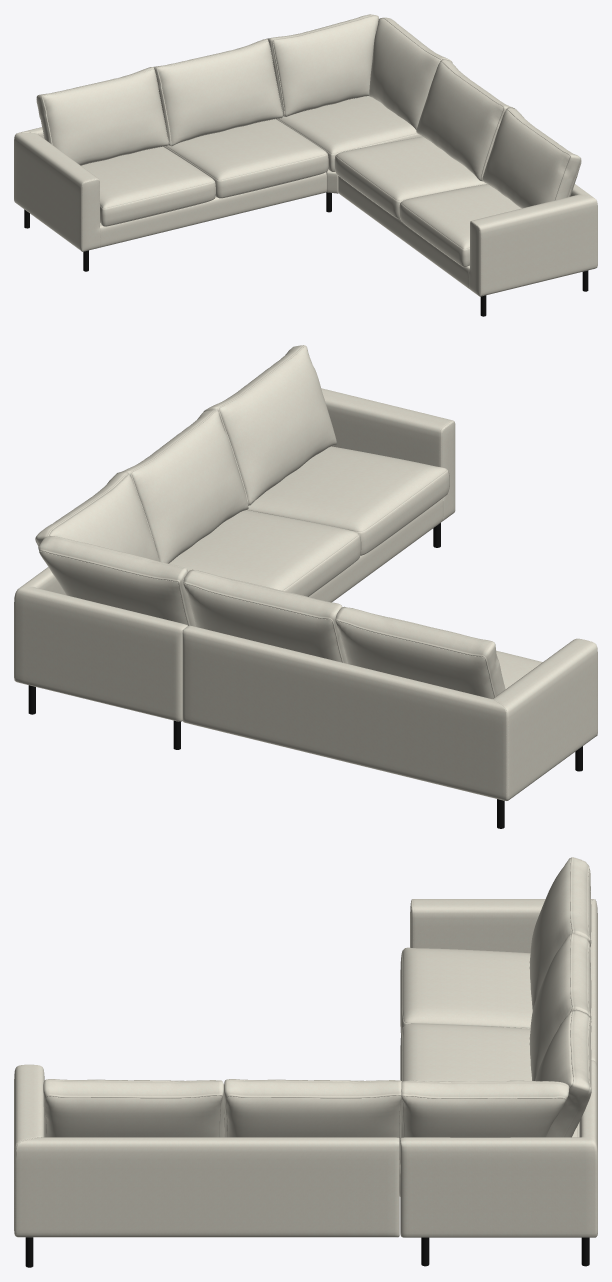
The model's file is ikea-saltsjobaden-corner.glb.
3 renders of one model, top to bottom at view 1: azimuth 30°, elevation 25°; view 2: azimuth 150°, elevation 25°; view 3: azimuth 270°, elevation 25°, orthographic. The views are drawn at different scales.
Visible parts, largest first — view 1: 1027, Cylinder007; view 2: 1027, Cylinder007; view 3: 1027, Cylinder007.
Boxes of the visible parts, <box> form: 1027: <box>14,14,597,296</box>; Cylinder007: <box>24,192,588,316</box>; 1027: <box>14,345,597,800</box>; Cylinder007: <box>28,523,582,828</box>; 1027: <box>14,857,597,1237</box>; Cylinder007: <box>25,1237,589,1267</box>.
Bounding box in the file's own units: 2.6 × 0.8884 × 2.6.
2 materials, 1 textured.
